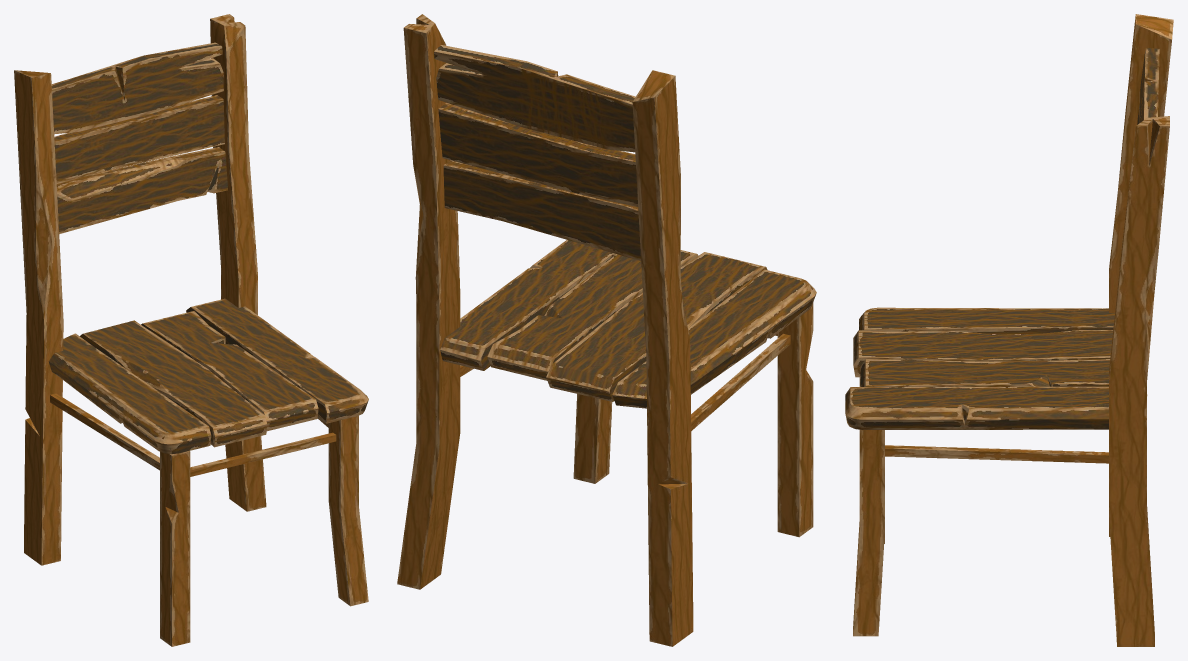
Rendered from damaged_old_stylized_chair.glb.
The picture shows the model from 3 angles, left to right: view 1: azimuth 30°, elevation 25°; view 2: azimuth 150°, elevation 25°; view 3: azimuth 270°, elevation 25°; orthographic projection. The views are drawn at different scales.
Visible parts, largest first — view 1: Cube.005; view 2: Cube.005; view 3: Cube.005.
Boxes of the visible parts, x1,y1,x2,y2 form: Cube.005: (14,14,368,646); Cube.005: (397,14,816,646); Cube.005: (845,14,1173,646).
Size of the model in its own units: 0.5239 by 1.05 by 0.6056.
Materials: 1 (1 with a texture image).
